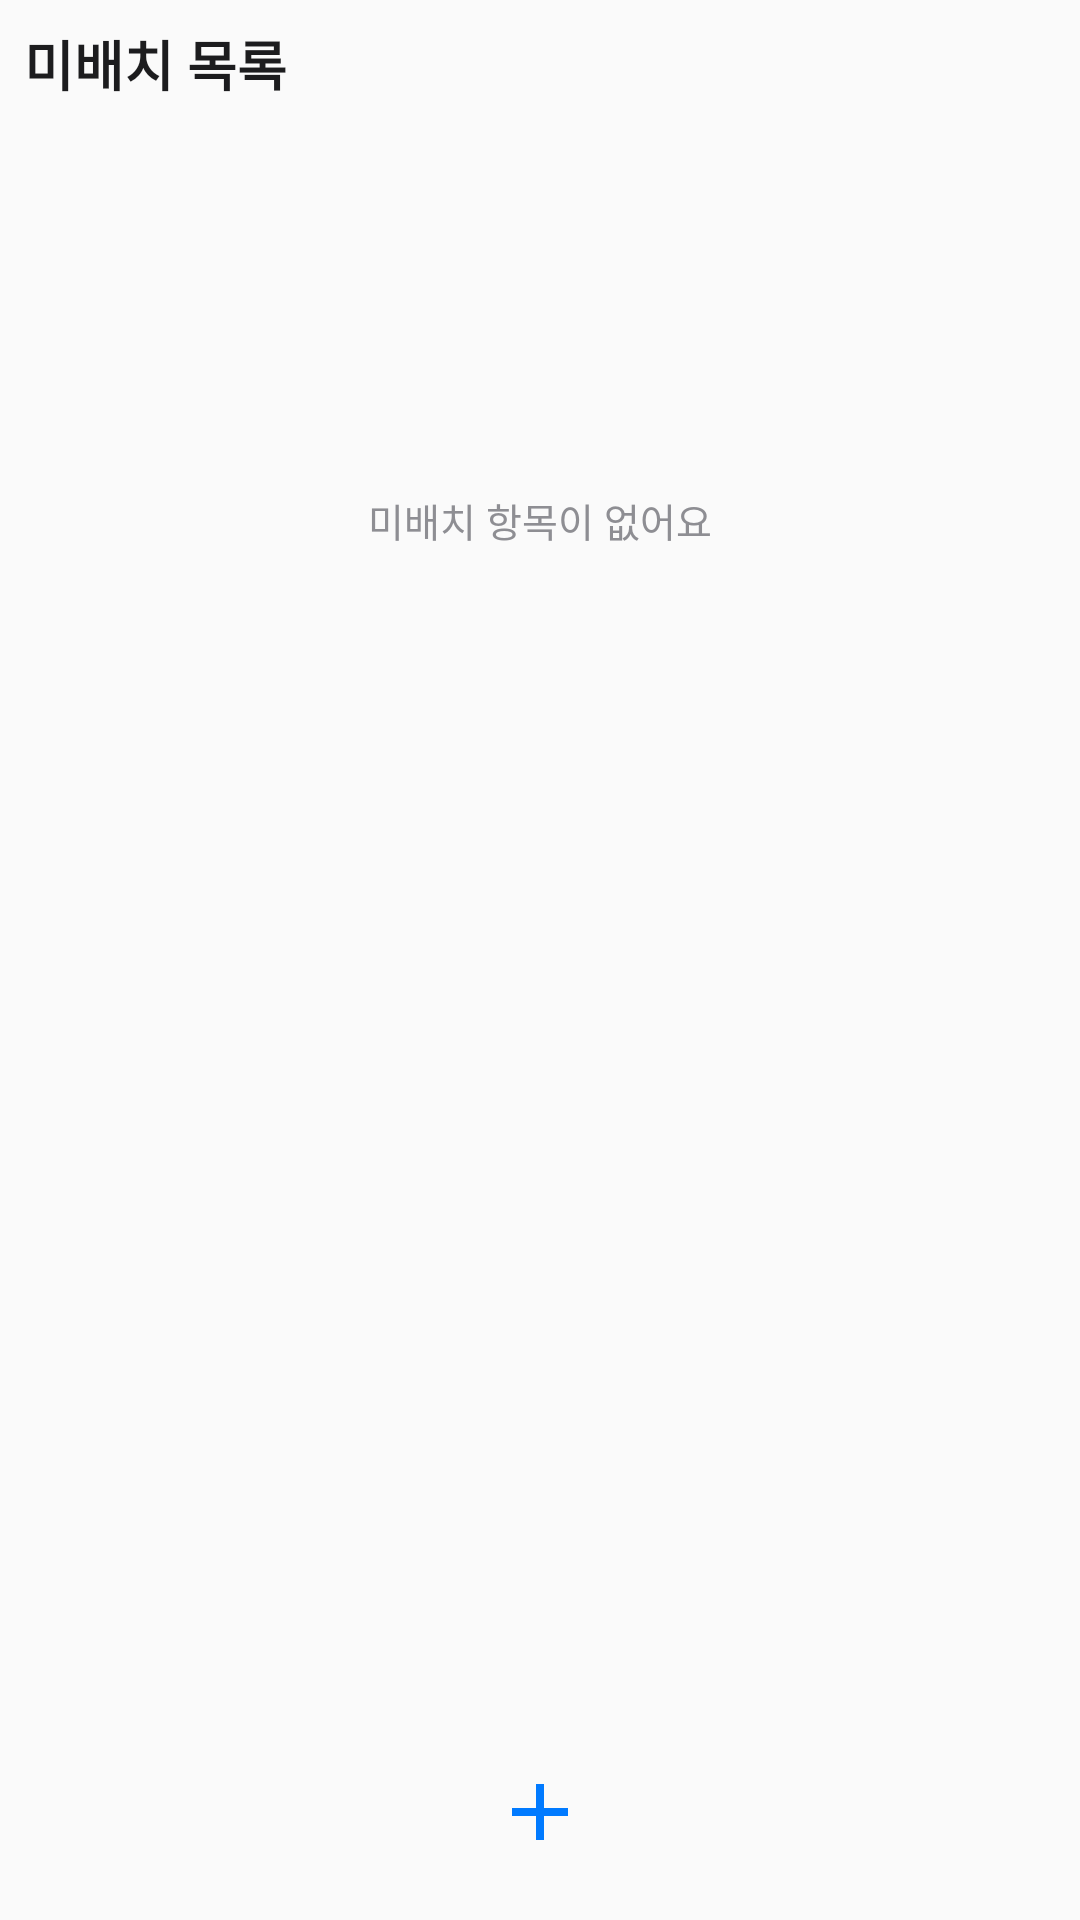

Screen size 1080x1920. Icon name, then its box in pixels as (left=x1, top=y1, right=x2, bottom=y2):
미배치 항목 추가: (left=512, top=1784, right=568, bottom=1840)
